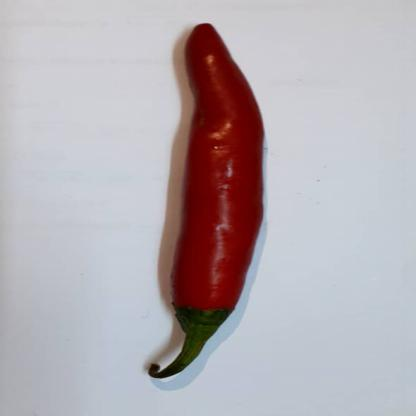chili: (140, 21, 265, 379)
